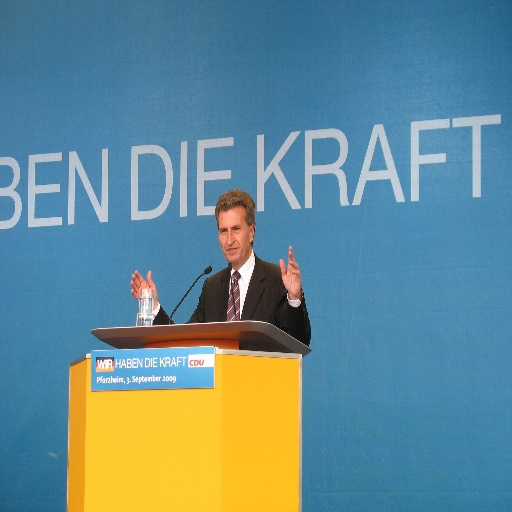hand: (124, 271, 160, 317), (279, 241, 302, 297)
